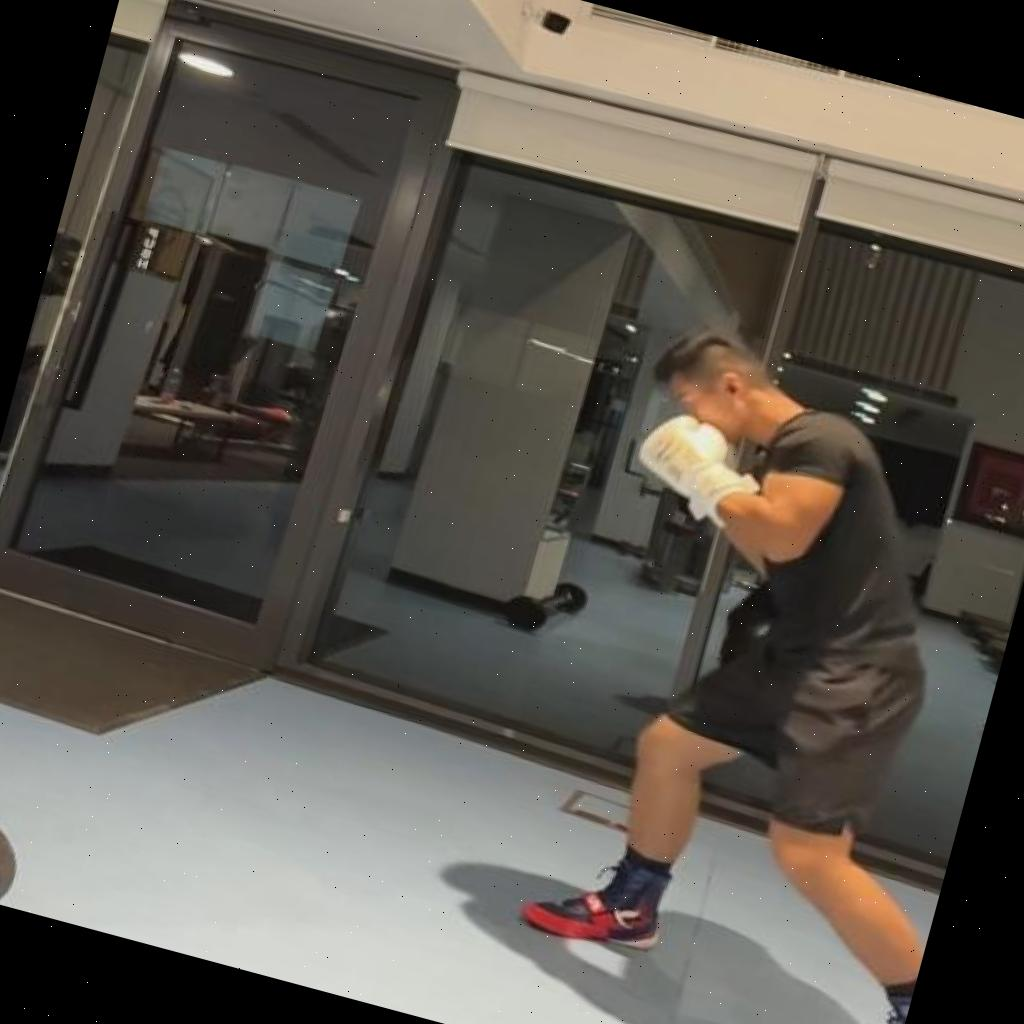no punch: (477, 313, 1024, 1024)
